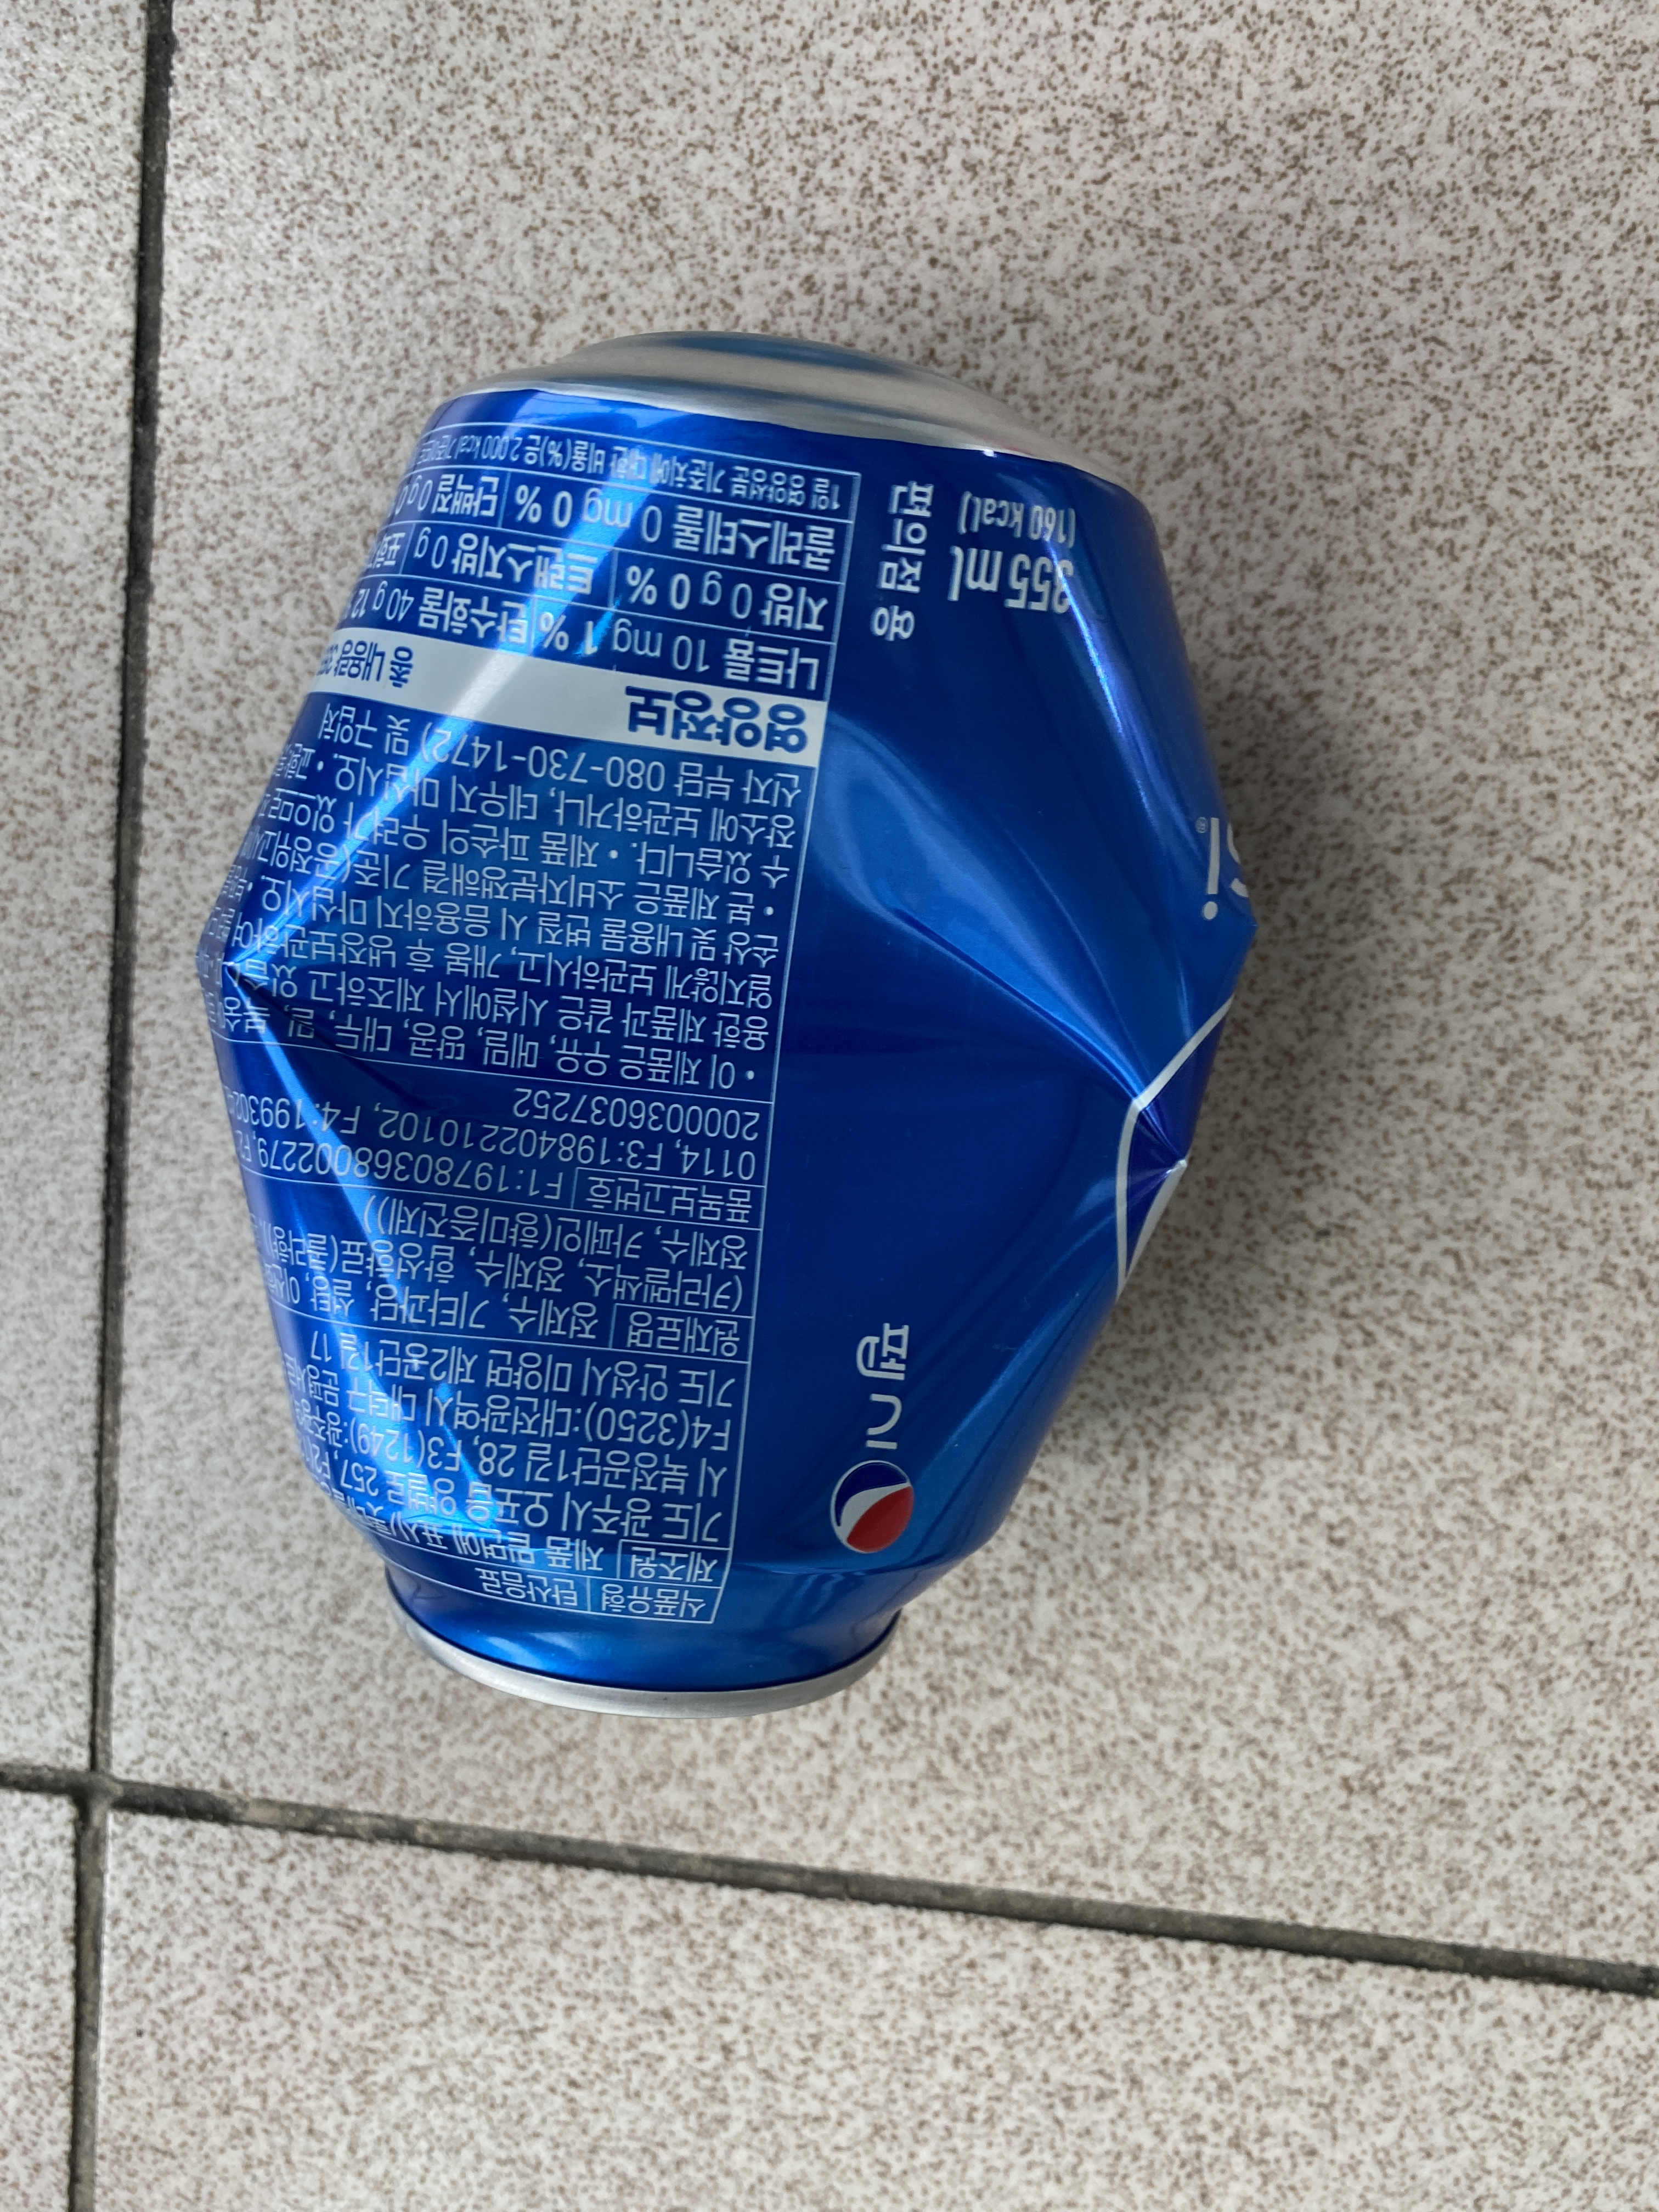metal: (183, 268, 1309, 1797)
